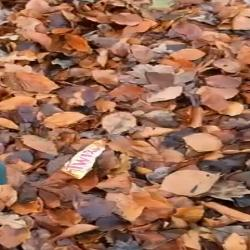Litter: (62, 140, 106, 179)
